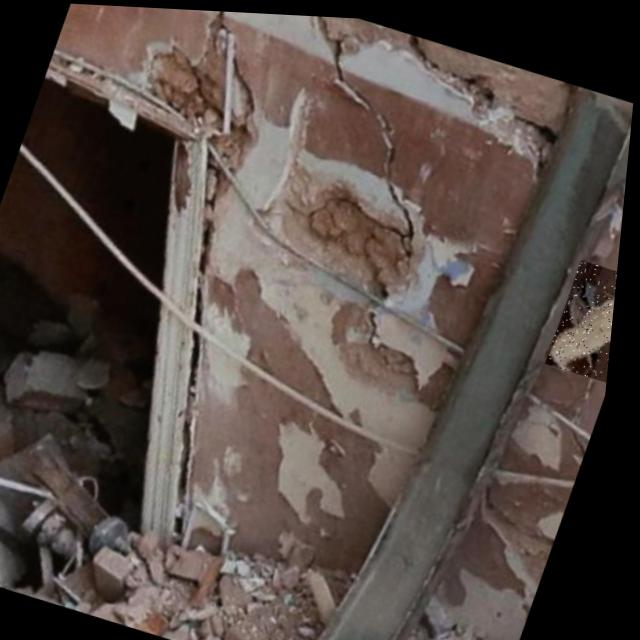Person in Rubble: (550, 251, 623, 375)
